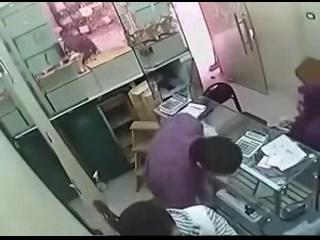Normal: (97, 114, 243, 236), (203, 82, 243, 113), (234, 128, 268, 158), (280, 200, 308, 220)
